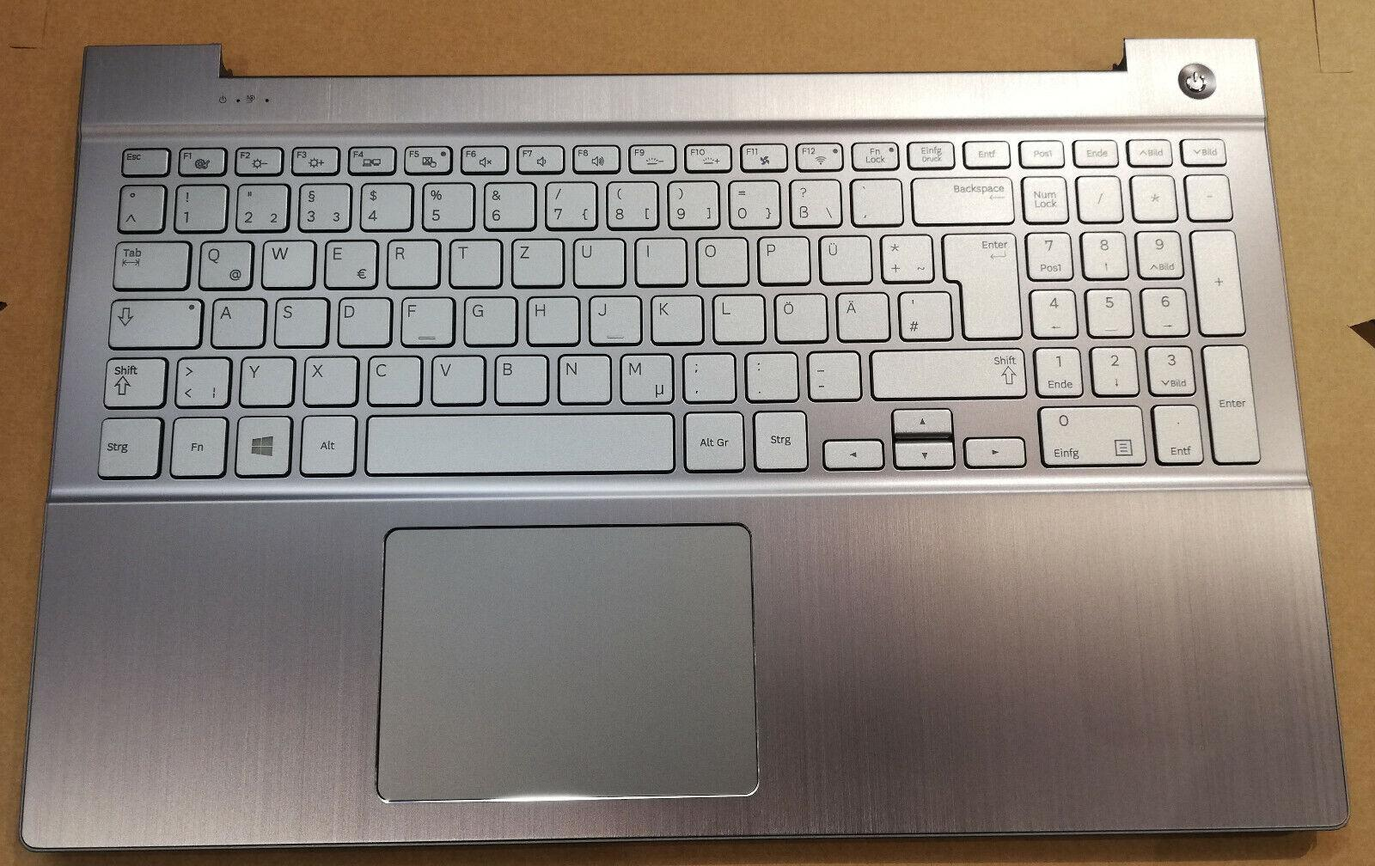0: (724, 176, 779, 226)
1: (170, 180, 225, 230)
2: (232, 180, 287, 229)
3: (293, 180, 349, 229)
4: (356, 179, 410, 229)
5: (417, 179, 472, 228)
6: (480, 178, 534, 228)
7: (541, 178, 595, 227)
8: (602, 178, 657, 227)
9: (663, 177, 718, 226)
a: (207, 294, 264, 346)
accent: (846, 174, 900, 223)
ae: (832, 289, 888, 339)
alt-left: (296, 411, 355, 474)
altgr-right: (679, 408, 743, 470)
b: (490, 351, 547, 403)
c: (363, 351, 419, 404)
caret: (114, 180, 162, 229)
comma: (677, 349, 734, 400)
d: (333, 293, 389, 345)
del: (908, 173, 1013, 223)
e: (320, 235, 376, 287)
enter: (937, 229, 1020, 337)
f: (397, 293, 452, 344)
g: (459, 292, 515, 344)
h: (522, 292, 577, 343)
hash: (894, 288, 950, 338)
i: (631, 234, 685, 284)
j: (584, 291, 639, 343)
k: (646, 290, 701, 342)
keyboard: (76, 121, 1275, 493)
l: (708, 290, 763, 341)
less: (170, 352, 229, 406)
m: (615, 350, 672, 402)
minus: (802, 347, 859, 398)
n: (553, 351, 609, 402)
o: (691, 233, 747, 284)
oe: (769, 290, 826, 340)
p: (753, 232, 808, 282)
plus: (876, 230, 932, 280)
point: (740, 348, 797, 399)
q: (194, 236, 252, 288)
r: (382, 235, 437, 286)
s: (270, 294, 326, 345)
shift-left: (99, 352, 164, 406)
shift-lock: (104, 294, 201, 346)
shift-right: (865, 345, 1024, 397)
space: (362, 408, 674, 473)
ss: (785, 175, 839, 224)
strg-left: (92, 412, 160, 477)
strg-right: (749, 407, 806, 469)
t: (445, 235, 499, 285)
tab: (108, 236, 188, 287)
u: (569, 234, 623, 285)
ue: (815, 231, 870, 282)
v: (427, 351, 483, 403)
w: (257, 235, 313, 287)
x: (299, 352, 356, 405)
y: (235, 352, 293, 406)
z: (508, 235, 562, 285)
